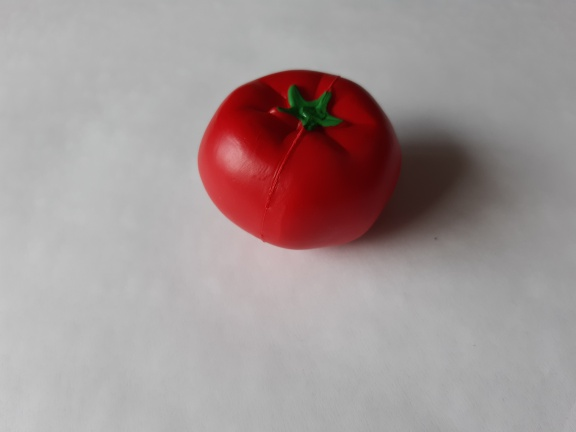tomato: (188, 59, 411, 262)
